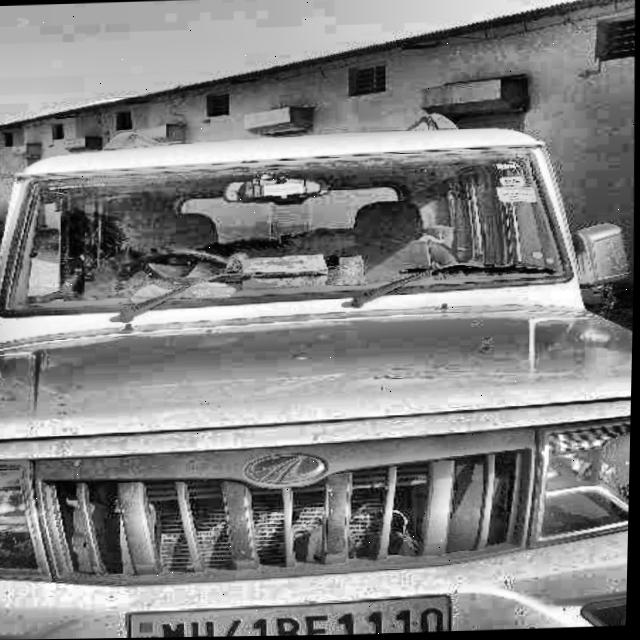light_vehicle: (0, 140, 637, 640)
